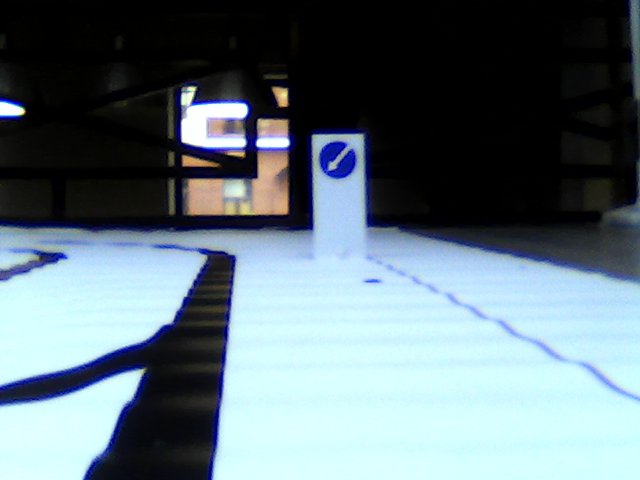prep: (317, 142, 357, 177)
